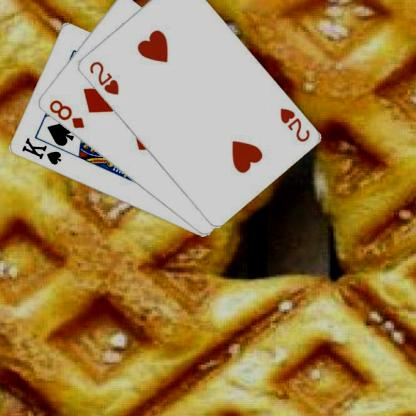2H: (86, 58, 120, 96), (277, 105, 311, 143)
8D: (46, 97, 86, 130)
KS: (18, 135, 62, 167)
